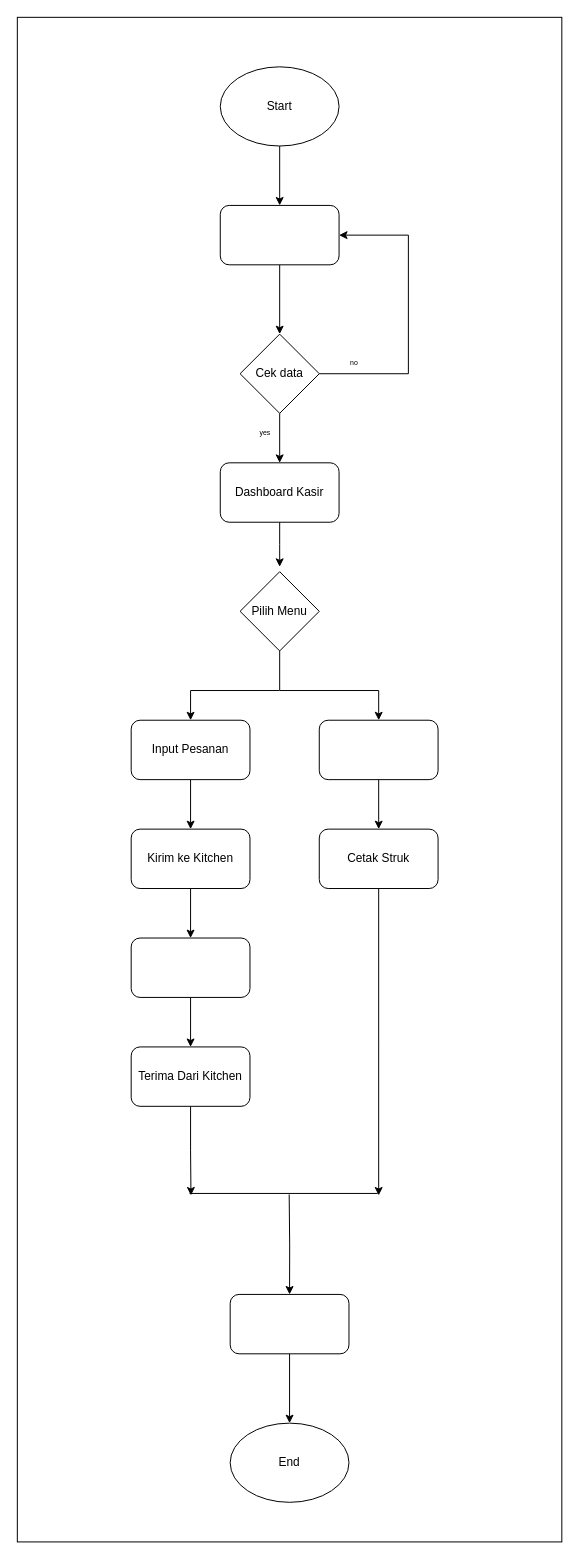
Some shapes in this 579 by 1559 pixel diagram are drawn without their labels. The shapes that lost their labels are listed below. From the top down, each one's box as (x1, y1, x2, y2) in pixels, then its label:
(219, 204, 339, 265): Login
(318, 719, 438, 780): Proses Pembayaran
(130, 937, 250, 997): Tunggu Pesanan
(229, 1293, 349, 1354): Serahkan ke Pelanggan
